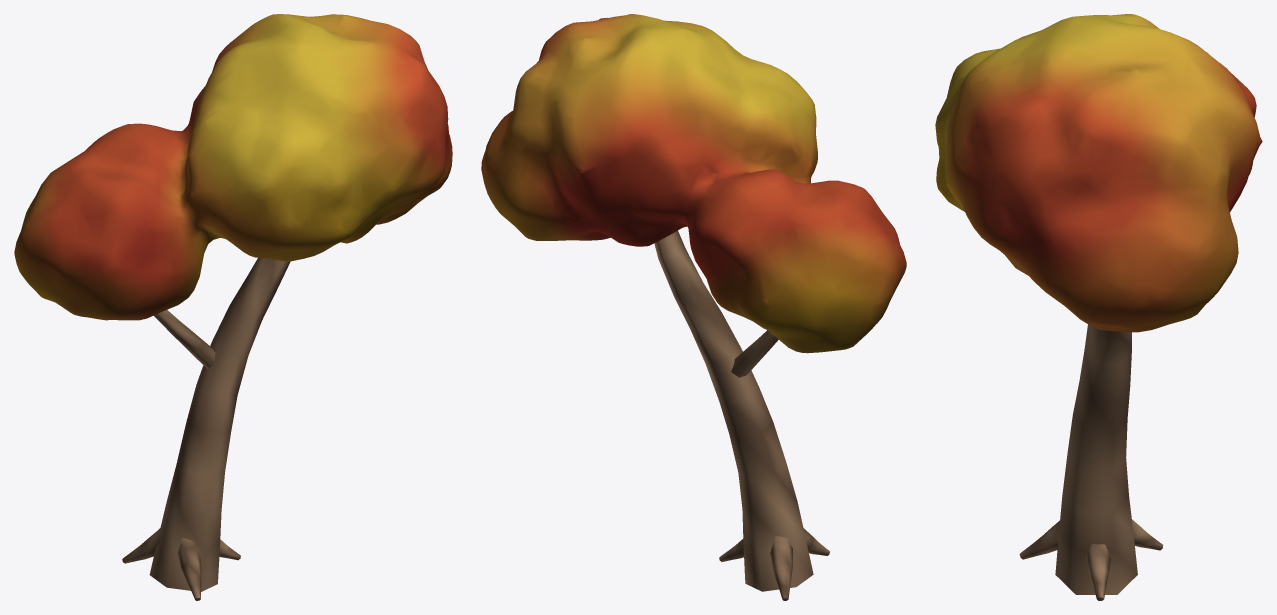
Rendered from SM_StylizedAutumnTree3.fbx.
3 renders of one model, left to right at view 1: azimuth 30°, elevation 25°; view 2: azimuth 150°, elevation 25°; view 3: azimuth 270°, elevation 25°, orthographic. The views are drawn at different scales.
Parts seen in each view (by area): view 1: SM_StylizedAutumnTree3; view 2: SM_StylizedAutumnTree3; view 3: SM_StylizedAutumnTree3.
Part boxes in pixels (x1,y1,x2,y2): SM_StylizedAutumnTree3: [14, 14, 452, 600]; SM_StylizedAutumnTree3: [481, 14, 906, 600]; SM_StylizedAutumnTree3: [935, 14, 1262, 600].
Size of what is drawn, in the model's own units: 4.81 by 5.87 by 2.78.
